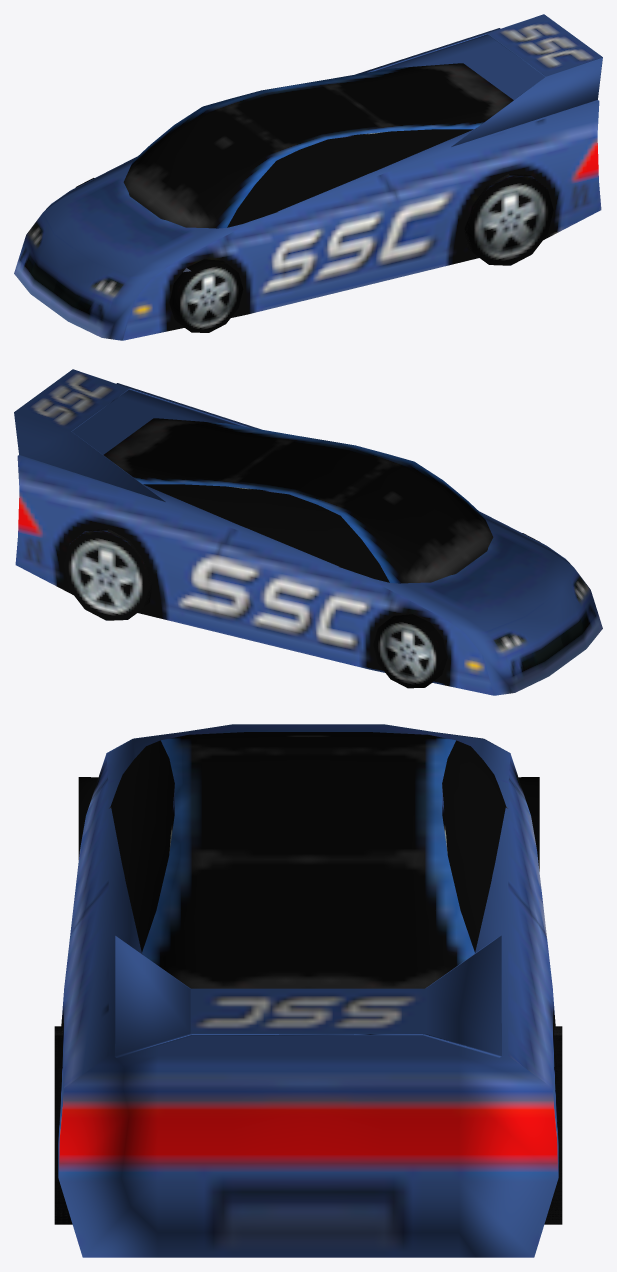
File: ssc.ico.obj
The picture shows the model from 3 angles, top to bottom: view 1: azimuth 30°, elevation 25°; view 2: azimuth 150°, elevation 25°; view 3: azimuth 270°, elevation 25°; orthographic projection. The views are drawn at different scales.
Size of the model in its own units: 4.62 by 1.29 by 1.94.
1 material, 1 textured.
